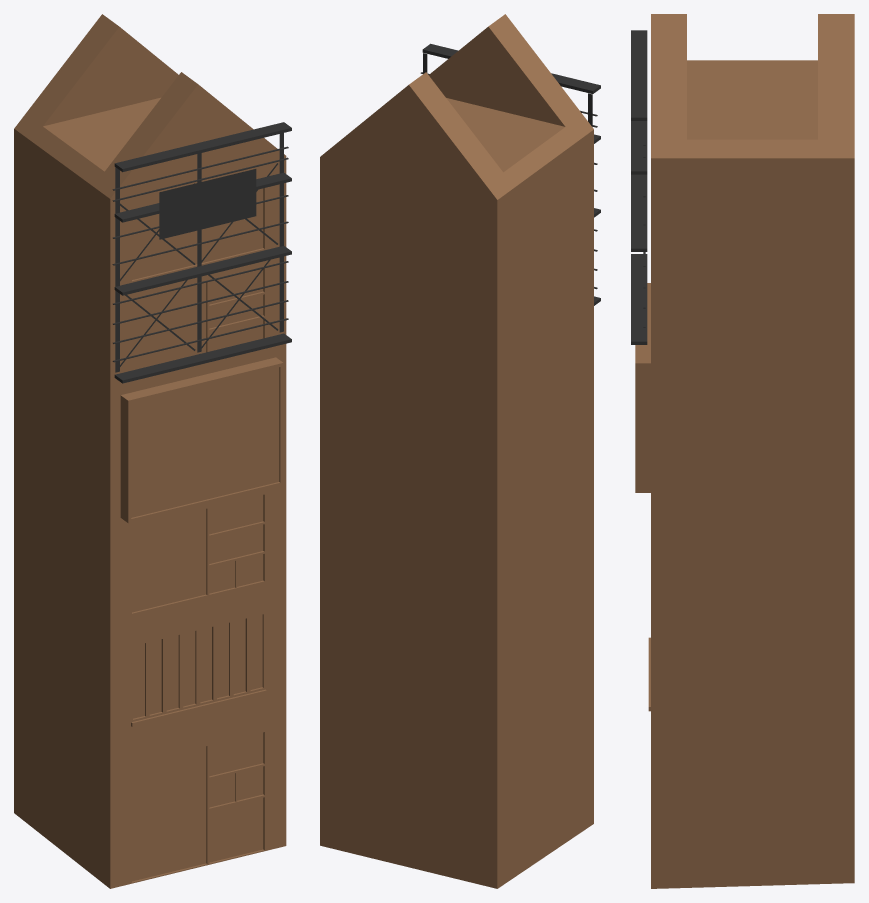
The model's file is chickenhouse.FBX.
3 views of the same model, side by side, from view 1: azimuth 30°, elevation 25°; view 2: azimuth 150°, elevation 25°; view 3: azimuth 270°, elevation 25° (orthographic). The views are drawn at different scales.
Parts seen in each view (by area): view 1: main building, scaffolding1; view 2: main building, scaffolding1; view 3: main building, scaffolding1.
Boxes of the visible parts, x1,y1,x2,y2 form: main building: (14, 14, 286, 888); scaffolding1: (112, 122, 291, 383); main building: (320, 14, 593, 888); scaffolding1: (420, 43, 600, 305); main building: (635, 14, 854, 888); scaffolding1: (631, 30, 647, 344).
Bounding box in the file's own units: 50.73 × 215 × 52.98.
